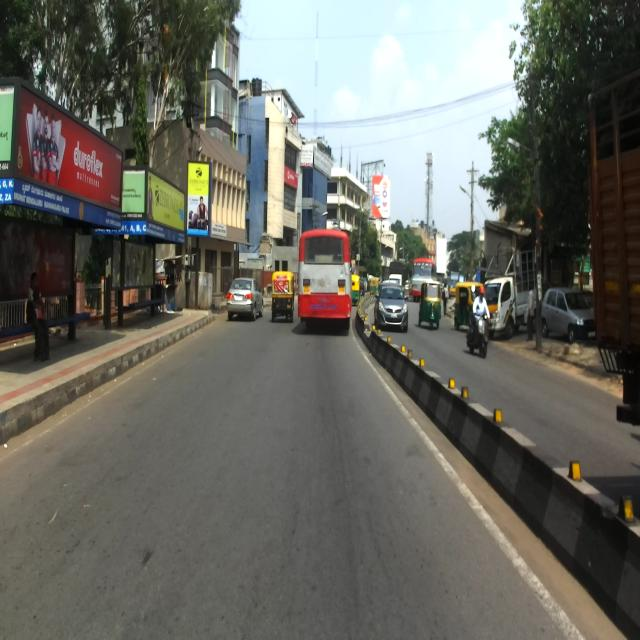auto ahead at: (269, 267, 293, 327)
bus ahead at: (296, 226, 352, 331)
car ahead at: (224, 276, 262, 316)
